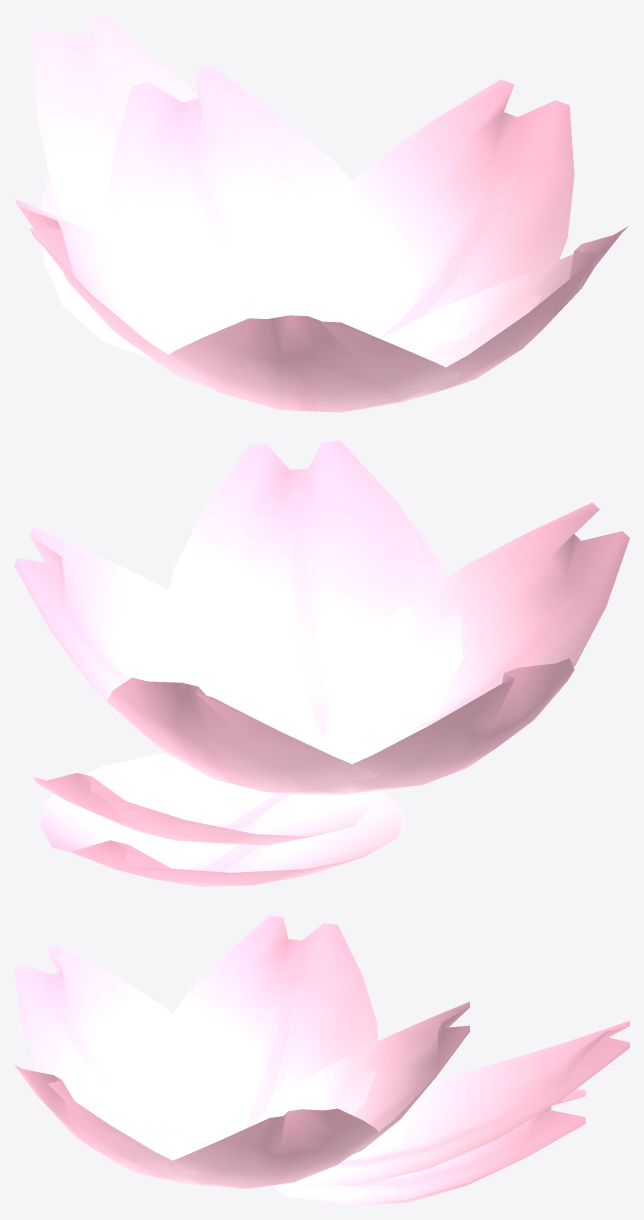
The model's file is petals.glb.
3 renders of one model, top to bottom at view 1: azimuth 30°, elevation 25°; view 2: azimuth 150°, elevation 25°; view 3: azimuth 270°, elevation 25°, orthographic. The views are drawn at different scales.
Visible parts, largest first — view 1: Blossom, Petal-B, Petal-A; view 2: Blossom, Petal-A, Petal-B; view 3: Blossom, Petal-B, Petal-A.
Part boxes in pixels (left/top/right/bottom): Blossom: left=14, top=66, right=629, bottom=412; Petal-B: left=32, top=14, right=198, bottom=239; Petal-A: left=40, top=170, right=154, bottom=360; Blossom: left=14, top=441, right=629, bottom=794; Petal-A: left=40, top=753, right=404, bottom=886; Petal-B: left=33, top=761, right=373, bottom=845; Blossom: left=14, top=915, right=469, bottom=1188; Petal-B: left=290, top=1020, right=629, bottom=1185; Petal-A: left=271, top=1089, right=585, bottom=1205.
Bounding box in the file's own units: 0.0108 × 0.00414 × 0.0138.
1 material, 1 textured.
